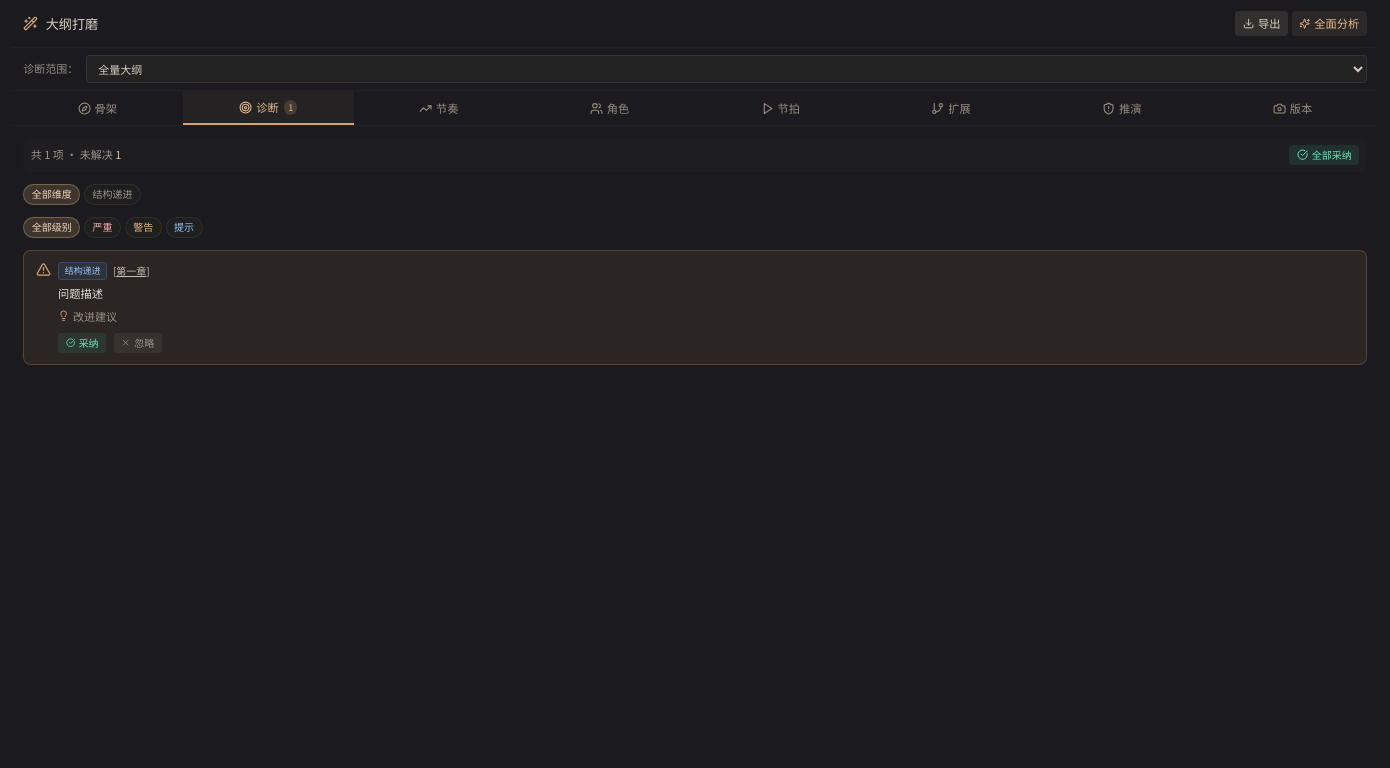
Test case: OutlinePolishPanel › 有报告时节奏 tab 显示三幕比例 + 张力曲线 + 情感曲线
Step 1. Click the button "节奏" → (439,108), box [354,91,524,125]
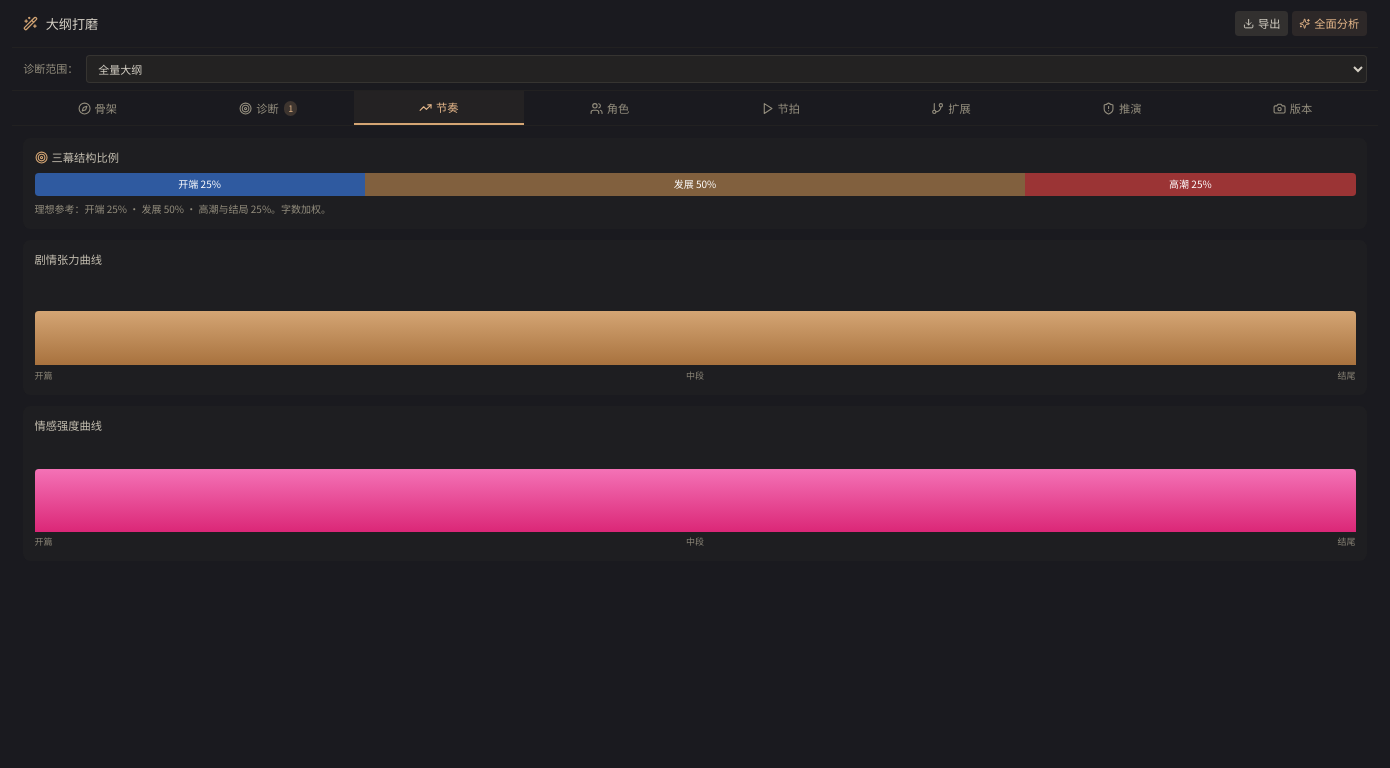
Expected: the text "三幕结构比例" is shown, [34,149,119,165]
Expected: the text "开端 25%" is shown, [34,173,365,196]
Expected: the text "发展 50%" is shown, [365,173,1025,196]
